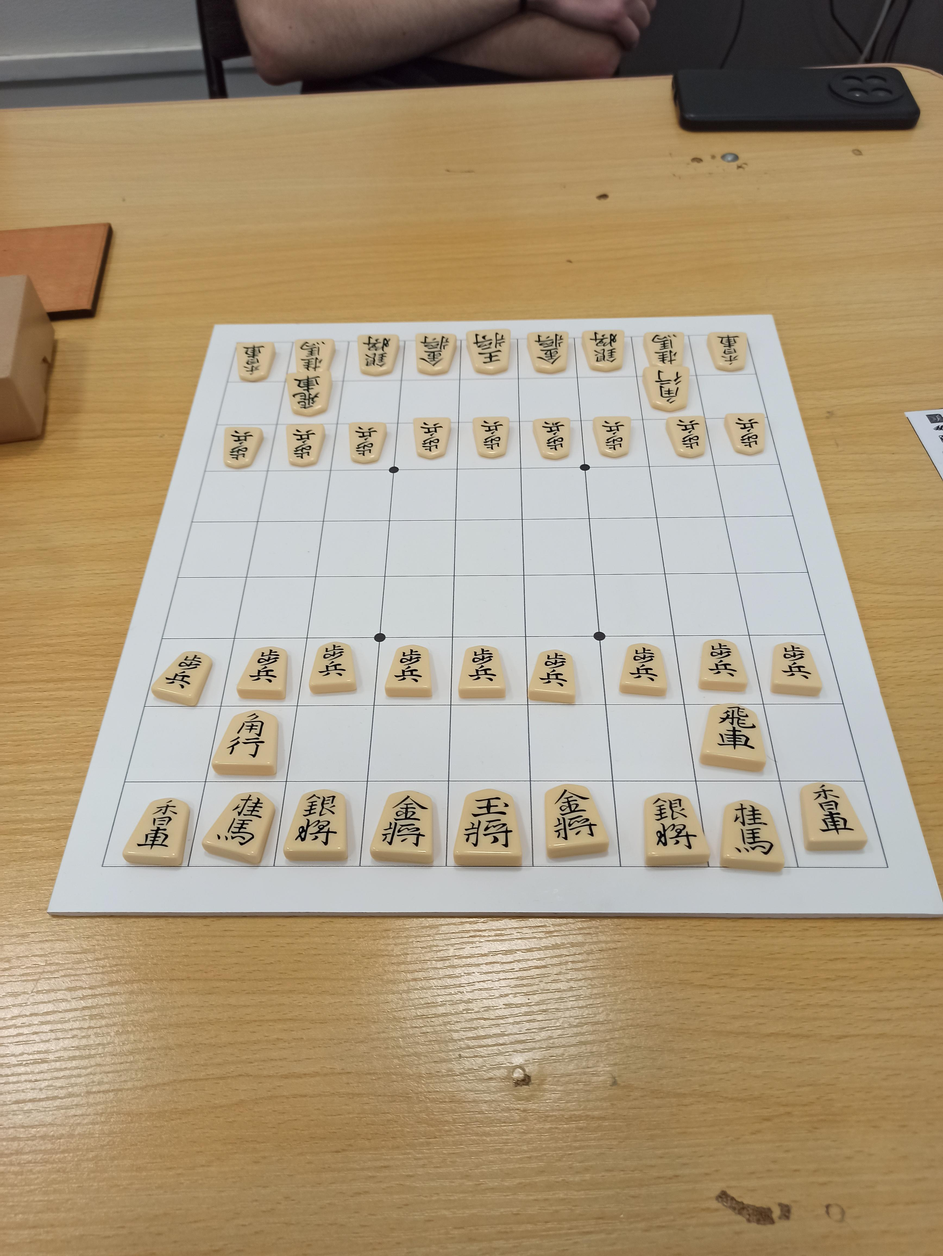board: (103, 338, 887, 868)
